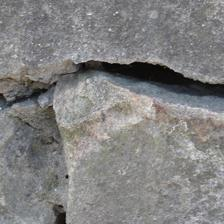Crack: (39, 30, 184, 91)
